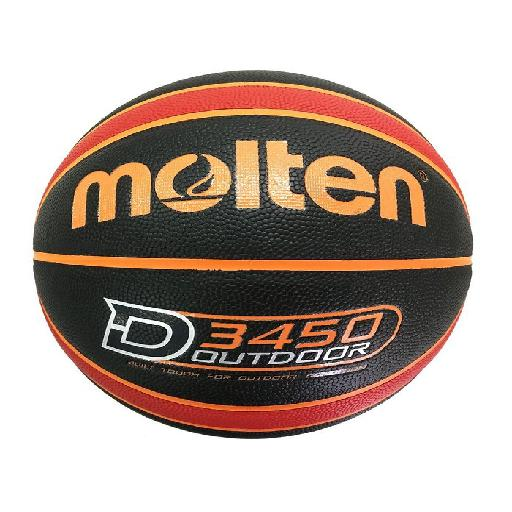ball: (34, 70, 470, 438)
